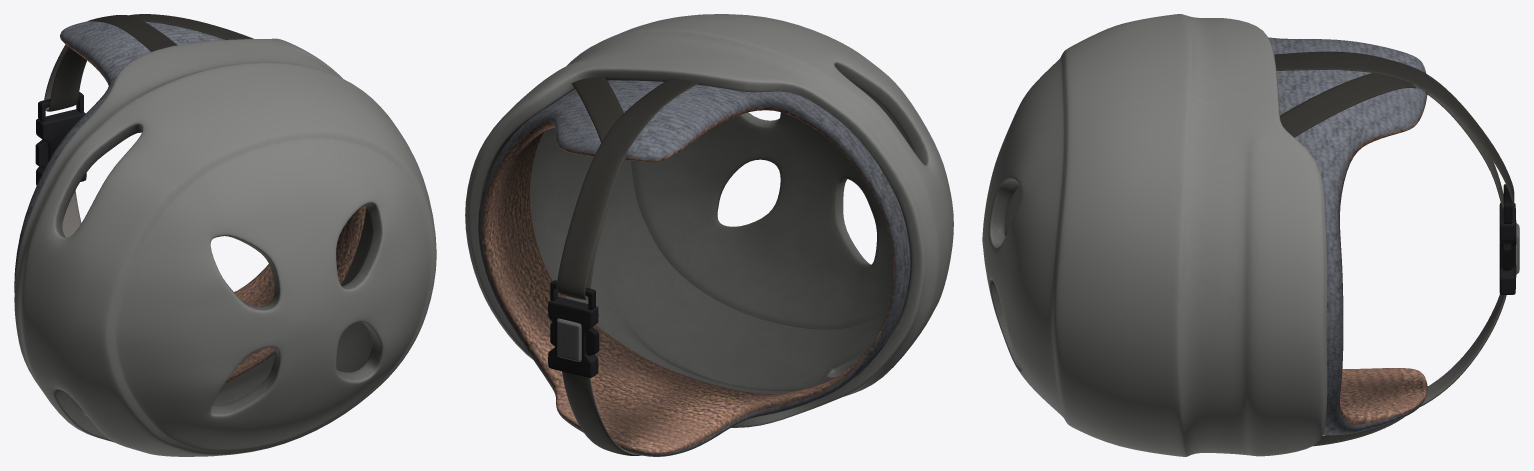
File: 12320_helmet_v1_L3.obj
The picture shows the model from 3 angles, left to right: view 1: azimuth 30°, elevation 25°; view 2: azimuth 150°, elevation 25°; view 3: azimuth 270°, elevation 25°; orthographic projection. The views are drawn at different scales.
Parts seen in each view (by area): view 1: 12320_hemlet_v1; view 2: 12320_hemlet_v1; view 3: 12320_hemlet_v1.
Boxes of the visible parts, x1,y1,x2,y2 form: 12320_hemlet_v1: (14, 14, 436, 456); 12320_hemlet_v1: (465, 14, 953, 456); 12320_hemlet_v1: (982, 14, 1519, 456).
Bounding box in the file's own units: 12.49 × 10.73 × 13.66.
1 material, 1 textured.
